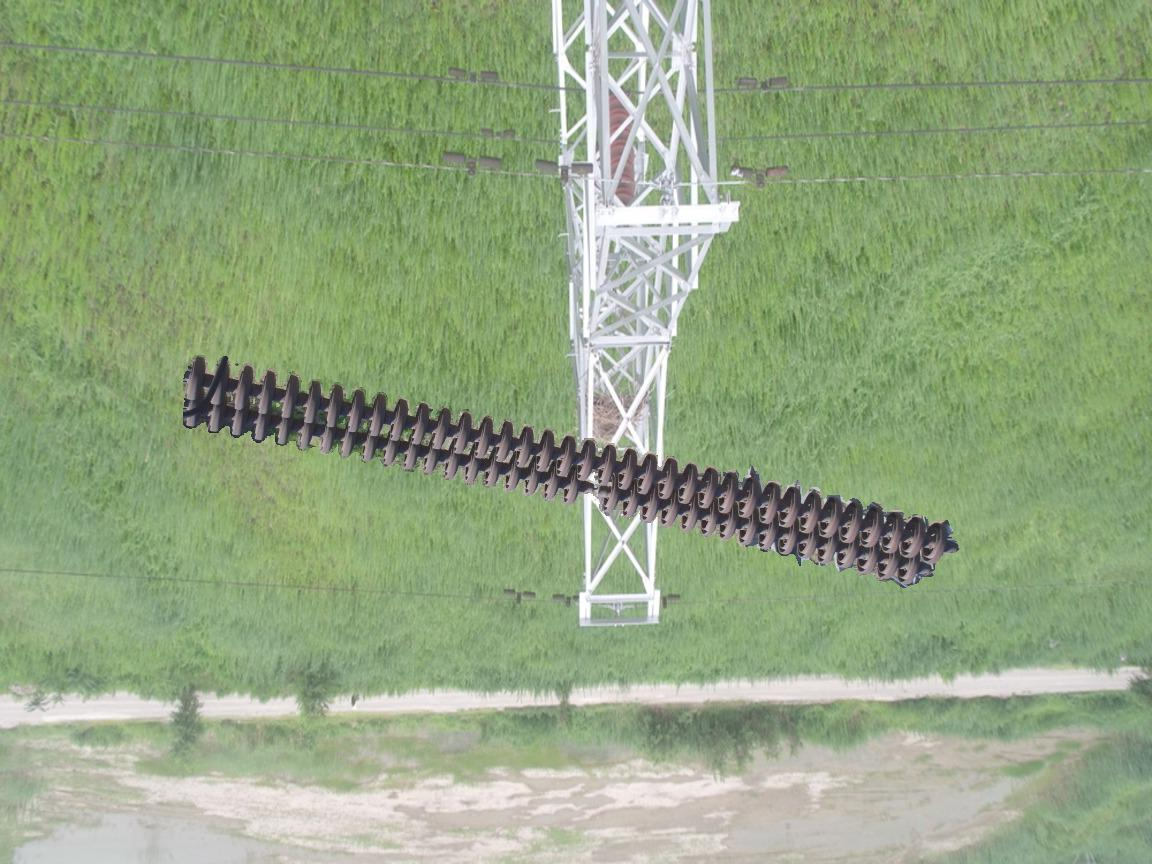insulator: (175, 352, 954, 590), (608, 86, 637, 209)
insulator_stringdrop: (560, 466, 622, 518)
